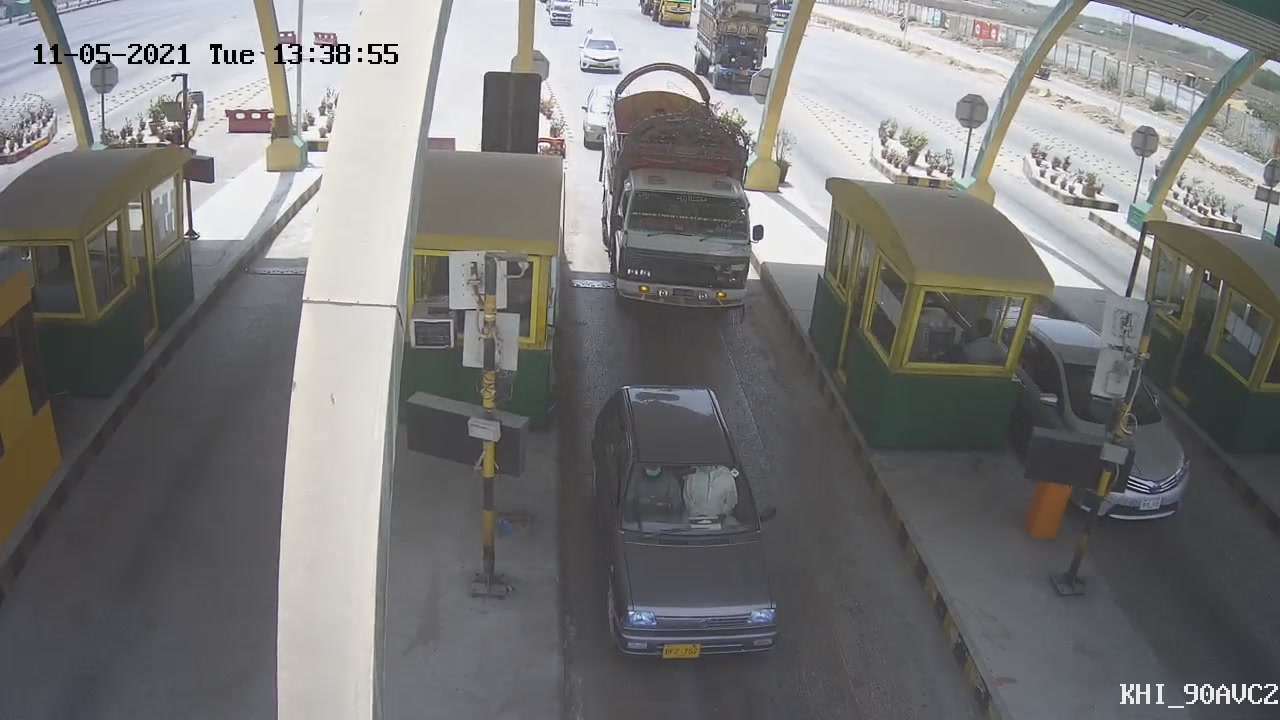F5: (592, 62, 758, 326)
